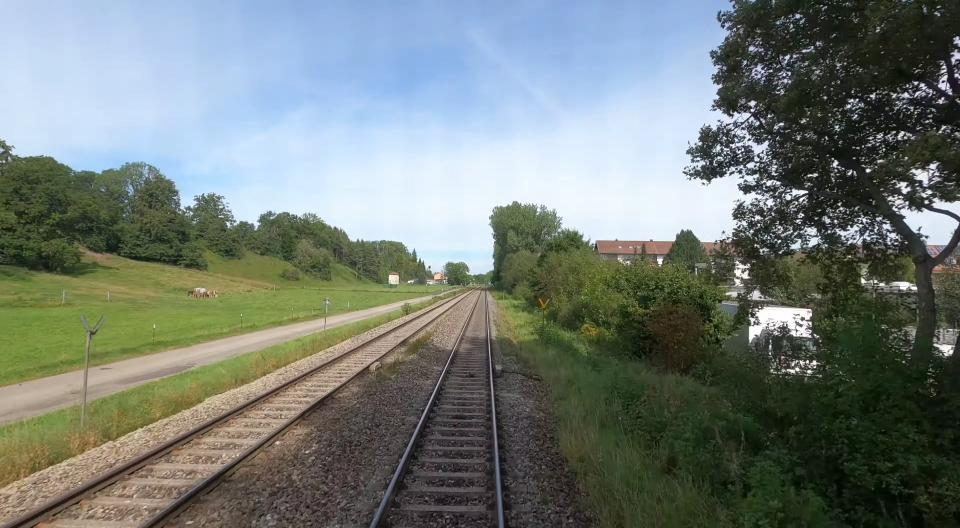Plant: (405, 330, 434, 356), (380, 357, 402, 375), (467, 372, 476, 377)
